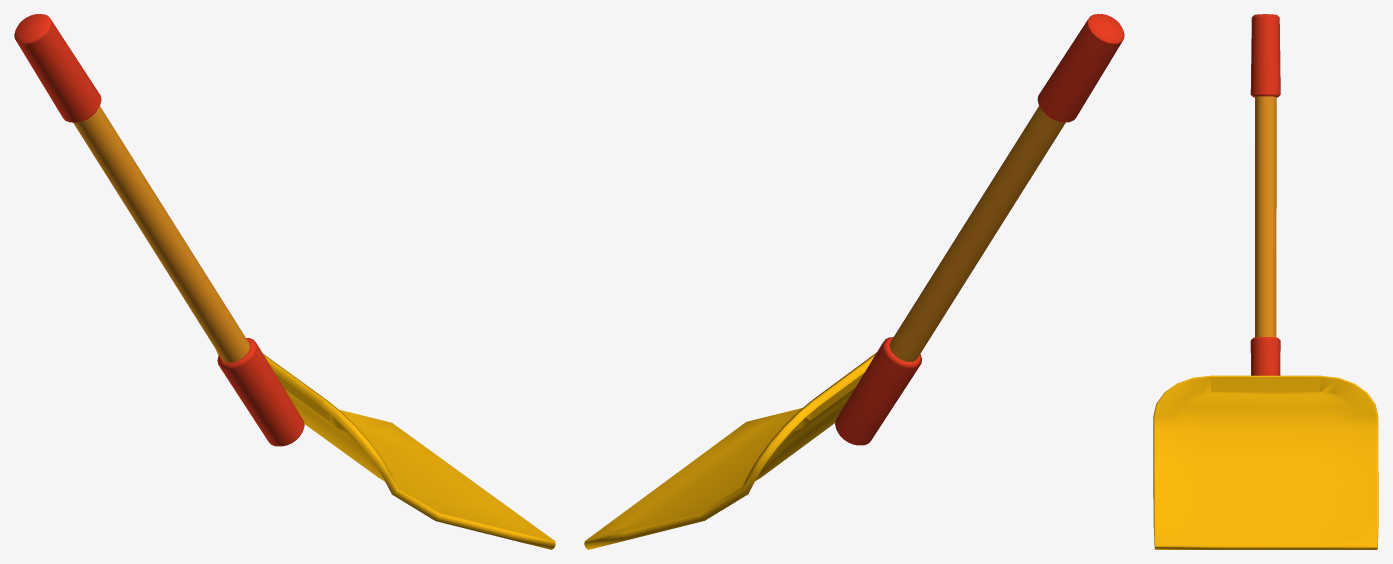
Rendered from Shovel.fbx.
3 views of the same model, side by side, from view 1: azimuth 30°, elevation 25°; view 2: azimuth 150°, elevation 25°; view 3: azimuth 270°, elevation 25° (orthographic). The views are drawn at different scales.
Parts seen in each view (by area): view 1: shovel, shovel.001; view 2: shovel, shovel.001; view 3: shovel.001, shovel.
Boxes of the visible parts, x1,y1,x2,y2 form: shovel: (14, 14, 304, 446); shovel.001: (216, 350, 555, 549); shovel: (835, 14, 1124, 445); shovel.001: (584, 352, 876, 549); shovel.001: (1153, 375, 1378, 549); shovel: (1250, 14, 1280, 375).
Bounding box in the file's own units: 30.77 × 37.26 × 19.3.
